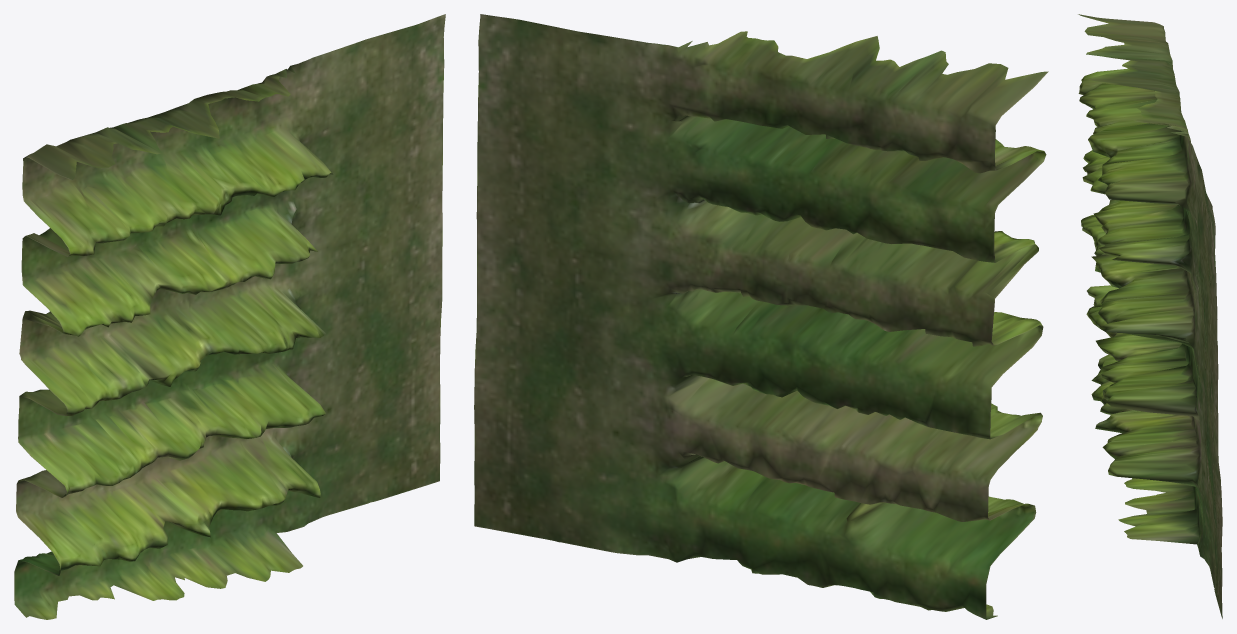
Rendered from map_20_70.obj.
The picture shows the model from 3 angles, left to right: view 1: azimuth 30°, elevation 25°; view 2: azimuth 150°, elevation 25°; view 3: azimuth 270°, elevation 25°; orthographic projection. The views are drawn at different scales.
Parts seen in each view (by area): view 1: map_20_70.obj; view 2: map_20_70.obj; view 3: map_20_70.obj.
Boxes of the visible parts, <box> form: map_20_70.obj: <box>14,14,445,619</box>; map_20_70.obj: <box>474,14,1048,619</box>; map_20_70.obj: <box>1078,14,1222,618</box>.
Bounding box in the file's own units: 10 × 10 × 3.19.
1 material, 1 textured.
